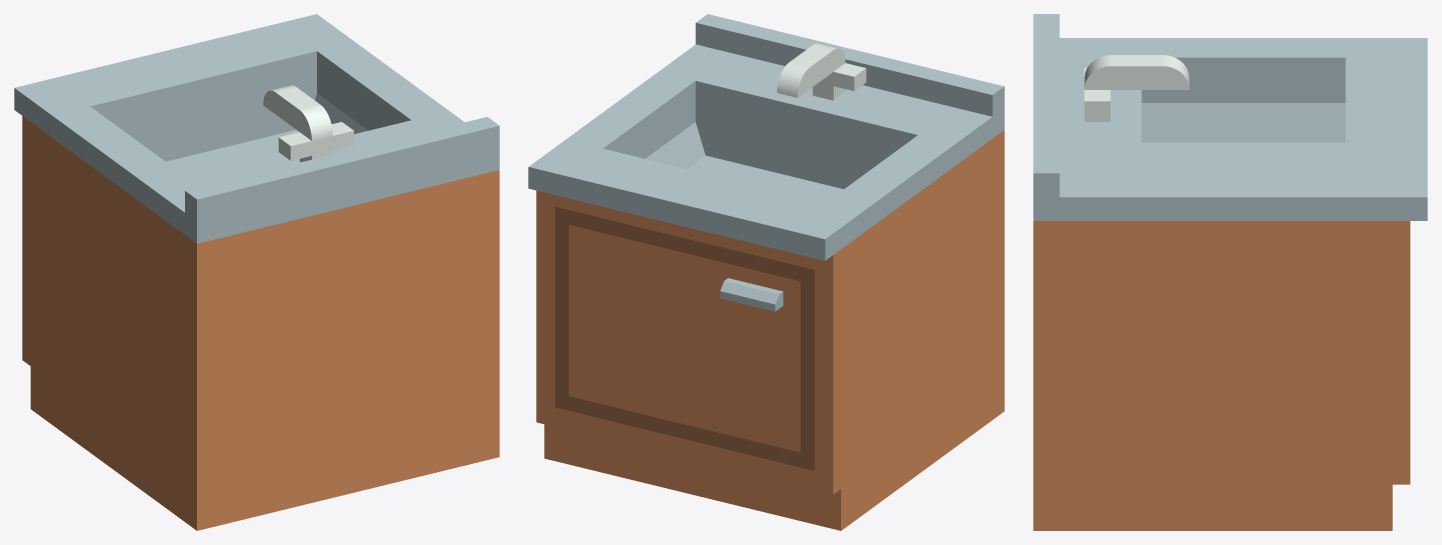
Rendered from kitchen_sink.obj.
3 views of the same model, side by side, from view 1: azimuth 30°, elevation 25°; view 2: azimuth 150°, elevation 25°; view 3: azimuth 270°, elevation 25° (orthographic). The views are drawn at different scales.
Parts seen in each view (by area): view 1: kitchenSink:door1; view 2: kitchenSink:door1; view 3: kitchenSink:door1.
Part boxes in pixels (x1,y1,x2,y2): kitchenSink:door1: (14, 14, 499, 530); kitchenSink:door1: (528, 14, 1004, 530); kitchenSink:door1: (1033, 14, 1427, 530).
Bounding box in the file's own units: 0.43 × 0.49 × 0.45.
